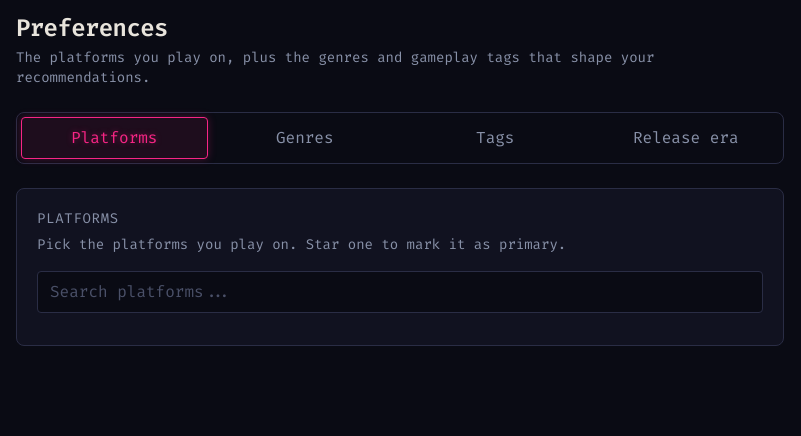
Test: Preferences page › renders the tag-preferences section with chips from the catalog
What coordinates should you click on to do the following:
click the tab "Tags"
I would click on:
 (495, 138)
Its box is [402,117,588,159].
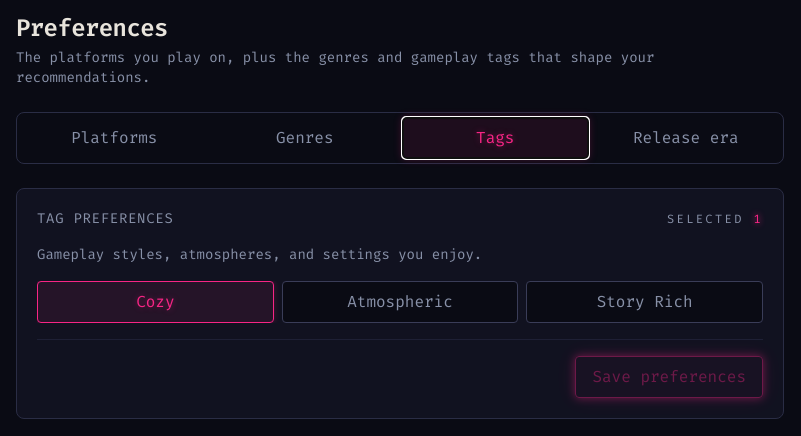
Now the button "cozy" is shown, box [37,281,274,323]
Now the text "Tag preferences" is shown, box [37,209,174,229]
Now the button "atmospheric" is shown, box [282,281,518,323]
